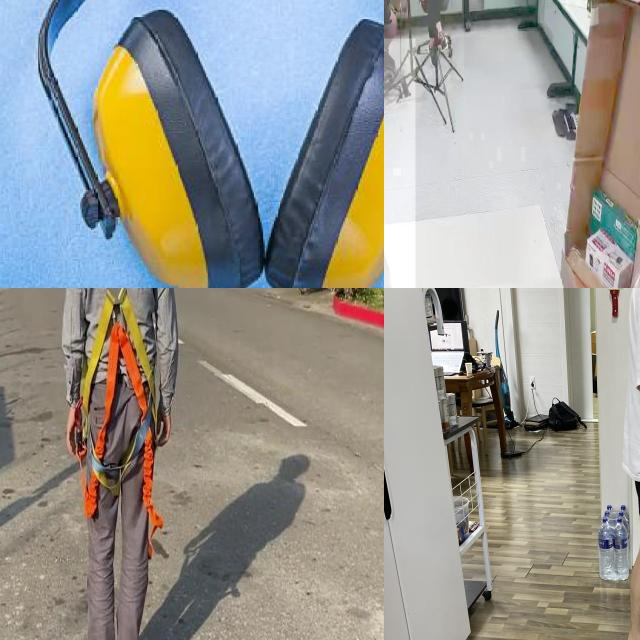Ear-protection: (25, 0, 384, 288)
Harness: (80, 288, 164, 538)
person: (405, 0, 464, 79)
